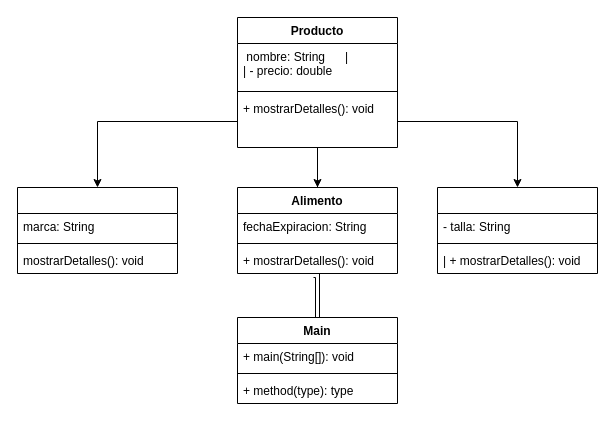
This 615x424 diagram has some shape labels left out. The box of each missing label's shape, as (x1, y1, x2, y2) in pixels:
Electronico: (16, 186, 178, 274)
Ropa: (436, 186, 598, 274)
